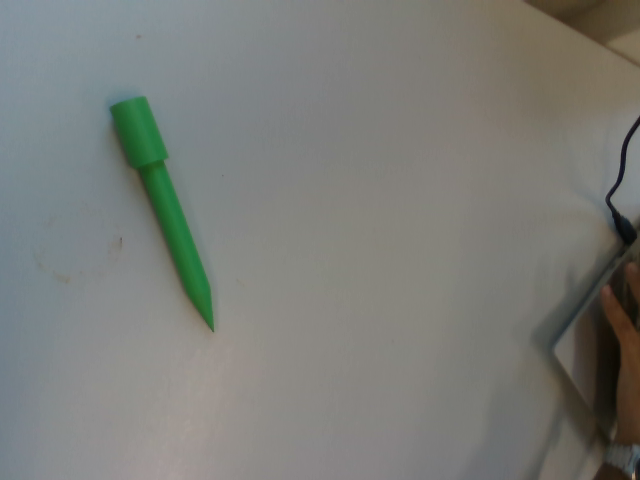Probe: (107, 91, 222, 341)
